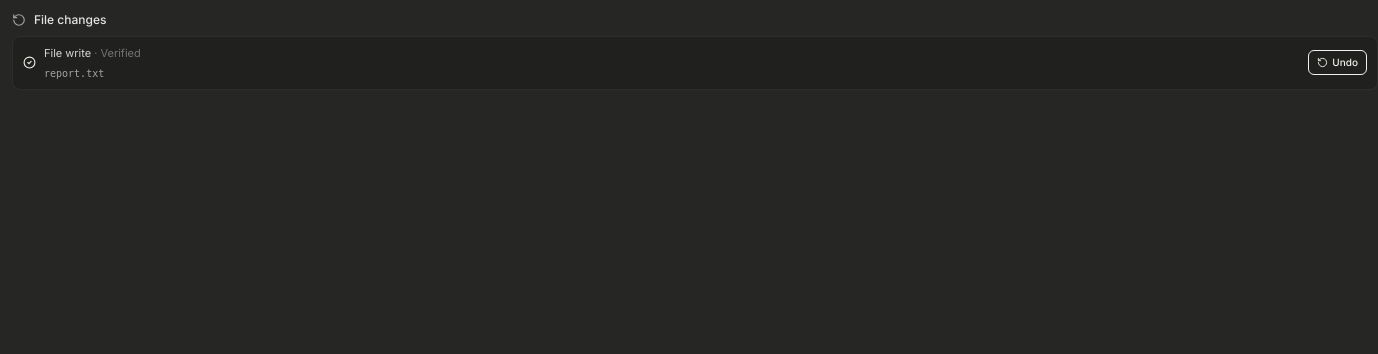
Test case: RecoveryPanel Undo controls › does not report an HTTP 200 needs_review Undo result as completed
This screenshot has width=1378, height=354.
Click the button "Undo". click: x=1338, y=63
box: x1=1308 y1=50 x2=1367 y2=75
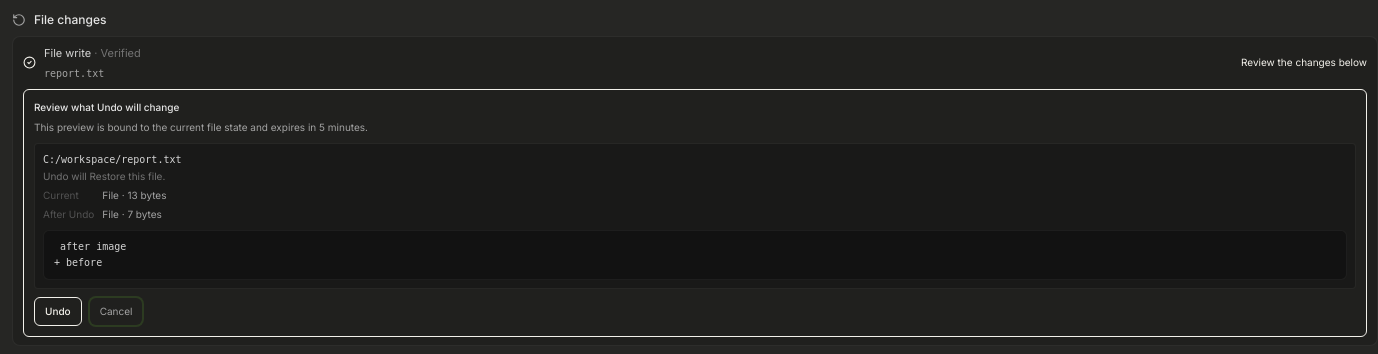
Expected: the element named "Undo confirmation preview" is shown
Click the button "Undo". click: x=58, y=312
box: x1=34 y1=297 x2=82 y2=326
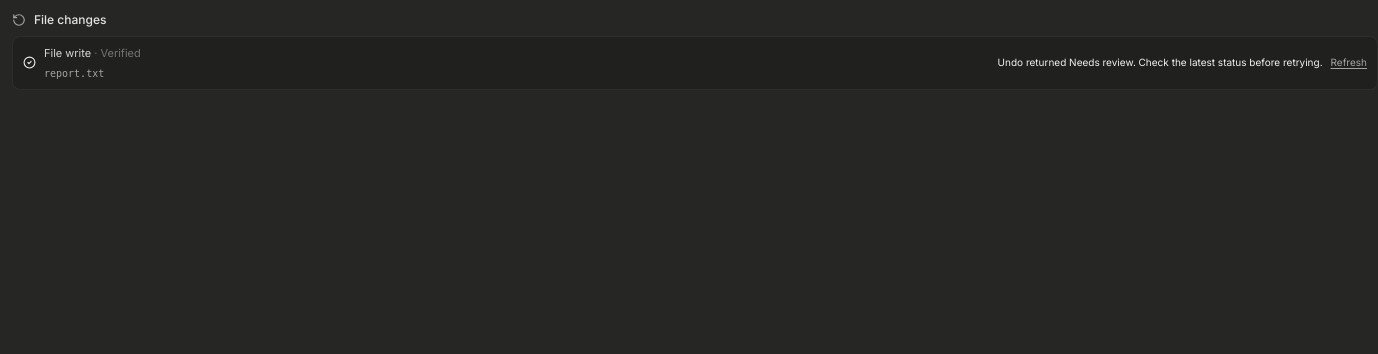
Expected: the text "File write" is shown, x1=44 y1=46 x2=91 y2=60
Expected: the button "Refresh" is shown, x1=1330 y1=55 x2=1367 y2=70
